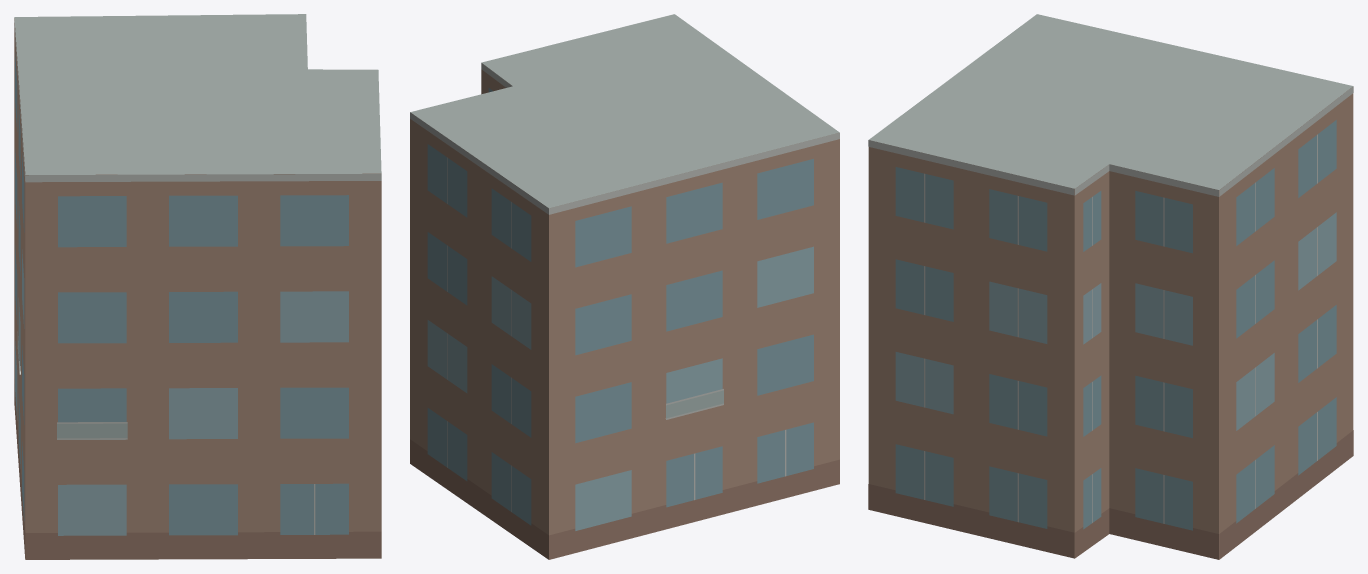
File: survey-upis-32489342.glb
The picture shows the model from 3 angles, left to right: view 1: azimuth 30°, elevation 25°; view 2: azimuth 150°, elevation 25°; view 3: azimuth 270°, elevation 25°; orthographic projection. The views are drawn at different scales.
Parts seen in each view (by area): view 1: survey-upis-32489342.tmp; view 2: survey-upis-32489342.tmp; view 3: survey-upis-32489342.tmp.
Boxes of the visible parts, bbox=[...] form: survey-upis-32489342.tmp: bbox=[14, 14, 381, 559]; survey-upis-32489342.tmp: bbox=[410, 14, 839, 559]; survey-upis-32489342.tmp: bbox=[868, 14, 1353, 559].
Size of the model in its own units: 13.39 by 13.1 by 15.58.
